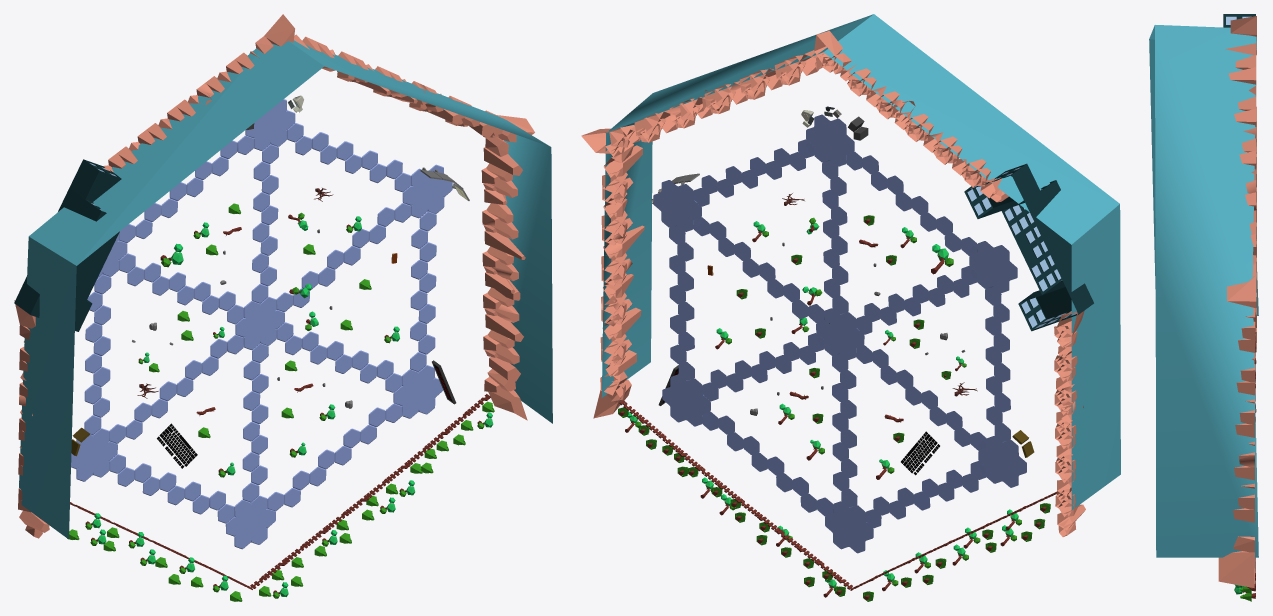
Rendered from MainMap1.glb.
The picture shows the model from 3 angles, left to right: view 1: azimuth 30°, elevation 25°; view 2: azimuth 150°, elevation 25°; view 3: azimuth 270°, elevation 25°; orthographic projection. The views are drawn at different scales.
Visible parts, largest first — view 1: Plane.001, Circle.015, stone2.001, Circle.001, Circle.014, пол.010, пол.007, пол.002, пол.005, пол.011, пол.001, пол.008 (+13 smaller); view 2: Plane.001, Circle.015, stone2.001, Circle.014, Circle.001, Circle.032, пол.008, пол.010, пол.002, пол.004, пол.007, пол.005 (+15 smaller); view 3: Plane.001, Circle.015, Circle.014, Circle.001, Circle.032.
Part boxes in pixels (x1=…): Plane.001: x1=19, y1=40, x2=552, y2=539; Circle.015: x1=481, y1=137, x2=527, y2=420; stone2.001: x1=14, y1=159, x2=121, y2=331; Circle.001: x1=103, y1=14, x2=294, y2=172; Circle.014: x1=294, y1=34, x2=534, y2=142; пол.010: x1=410, y1=211, x2=436, y2=371; пол.007: x1=109, y1=334, x2=243, y2=443; пол.002: x1=242, y1=343, x2=268, y2=502; пол.005: x1=251, y1=144, x2=278, y2=303; пол.011: x1=267, y1=403, x2=402, y2=511; пол.001: x1=276, y1=322, x2=401, y2=392; пол.008: x1=84, y1=274, x2=111, y2=434; Plane.001: x1=601, y1=14, x2=1120, y2=509; Circle.015: x1=593, y1=142, x2=644, y2=418; stone2.001: x1=964, y1=163, x2=1093, y2=331; Circle.014: x1=581, y1=50, x2=830, y2=157; Circle.001: x1=814, y1=30, x2=1008, y2=202; Circle.032: x1=1054, y1=310, x2=1085, y2=536; пол.008: x1=985, y1=286, x2=1010, y2=442; пол.010: x1=669, y1=225, x2=694, y2=380; пол.002: x1=832, y1=353, x2=857, y2=507; пол.004: x1=693, y1=217, x2=824, y2=322; пол.007: x1=856, y1=345, x2=986, y2=450; пол.005: x1=822, y1=160, x2=848, y2=314; Plane.001: x1=1149, y1=25, x2=1258, y2=557; Circle.015: x1=1218, y1=307, x2=1255, y2=588; Circle.014: x1=1225, y1=43, x2=1256, y2=308; Circle.001: x1=1230, y1=16, x2=1256, y2=55; Circle.032: x1=1255, y1=106, x2=1256, y2=352.
Size of what is drawn, in the model's own units: 139 by 150 by 25.41.
Materials: 39 (7 with a texture image).
